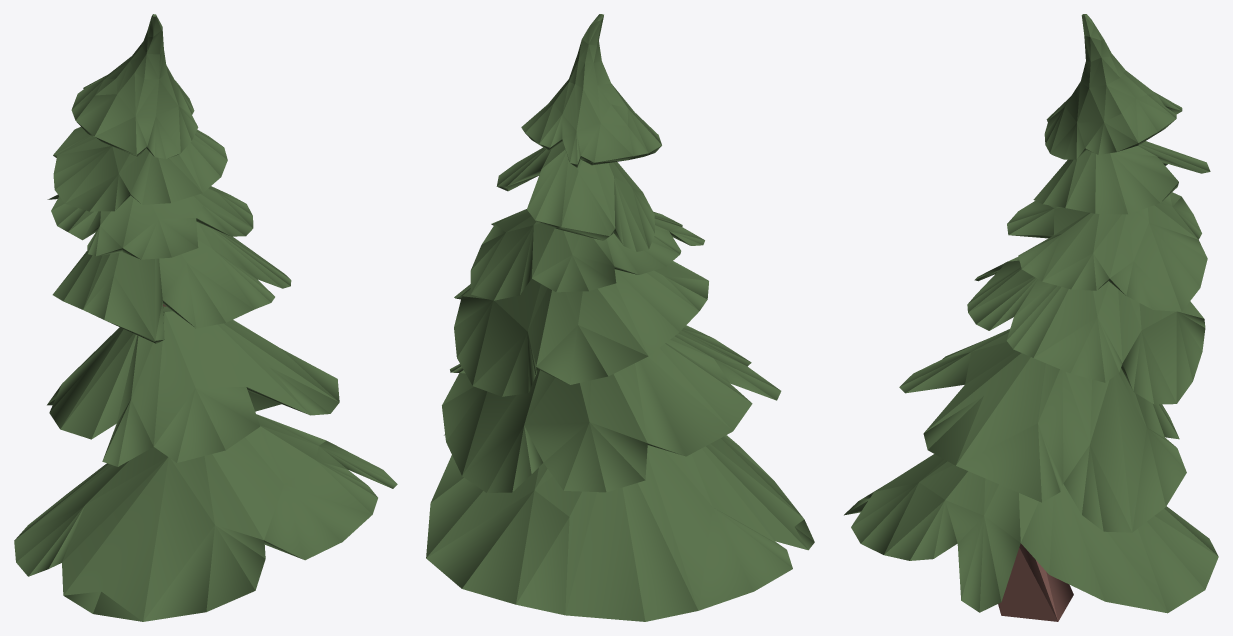
Rendered from PineTree_3_far.glb.
The picture shows the model from 3 angles, left to right: view 1: azimuth 30°, elevation 25°; view 2: azimuth 150°, elevation 25°; view 3: azimuth 270°, elevation 25°; orthographic projection. The views are drawn at different scales.
Parts seen in each view (by area): view 1: PineTree_3_Far; view 2: PineTree_3_Far; view 3: PineTree_3_Far.
Part boxes in pixels (bbox=[...]): PineTree_3_Far: bbox=[14, 14, 397, 621]; PineTree_3_Far: bbox=[426, 14, 814, 621]; PineTree_3_Far: bbox=[844, 14, 1218, 621].
Bounding box in the file's own units: 2.15 × 3.3 × 1.94.
